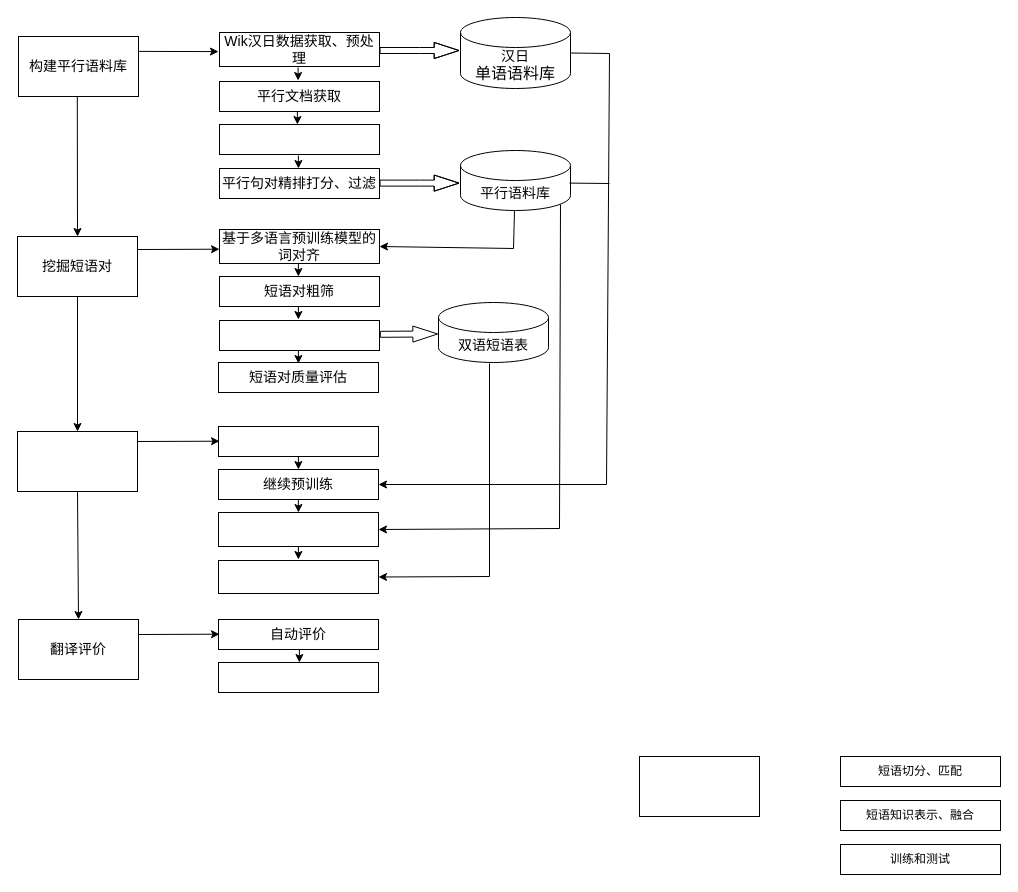
The diagram is 1018 pixels wide and 892 high, and some of its shapes have lost their labels. The shapes that lost their labels are listed below. From the top down, each one's centre as x and y in pixels, then its label:
the point at 299,139: 平行句对粗筛
the point at 299,335: 短语对打分、过滤
the point at 77,461: 大模型结合短语知识的翻译建模
the point at 298,441: 确定基座大模型
the point at 298,529: 指令数据集构建、指令微调
the point at 298,577: 融合短语知识的提示学习、思维链
the point at 298,677: 人工评价
the point at 699,786: 监督模型融合短语知识的汉日机器翻译
